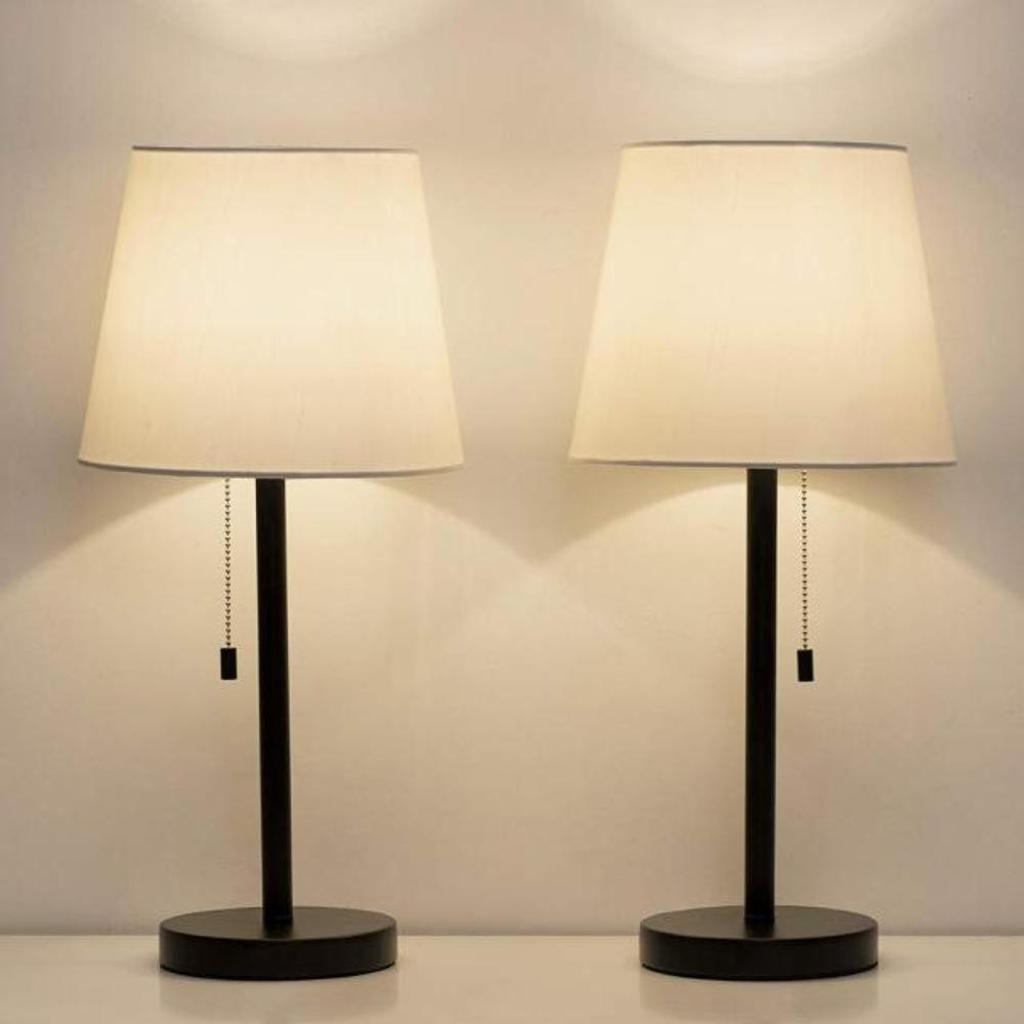shelf: (59, 108, 477, 996), (565, 123, 948, 989)
